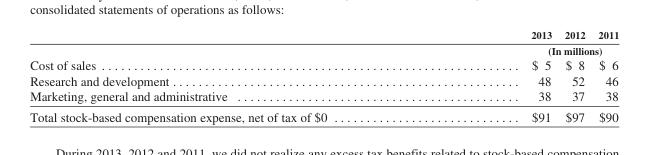table: (29, 28, 618, 123)
table column: (29, 28, 428, 123), (428, 28, 557, 123), (557, 28, 591, 123), (591, 28, 618, 123)
table column header: (29, 28, 618, 57)
table row: (29, 88, 618, 106), (29, 106, 618, 123), (29, 72, 618, 88), (29, 42, 618, 57), (29, 57, 618, 72), (29, 28, 618, 42)
table spanning cell: (428, 42, 618, 57)
